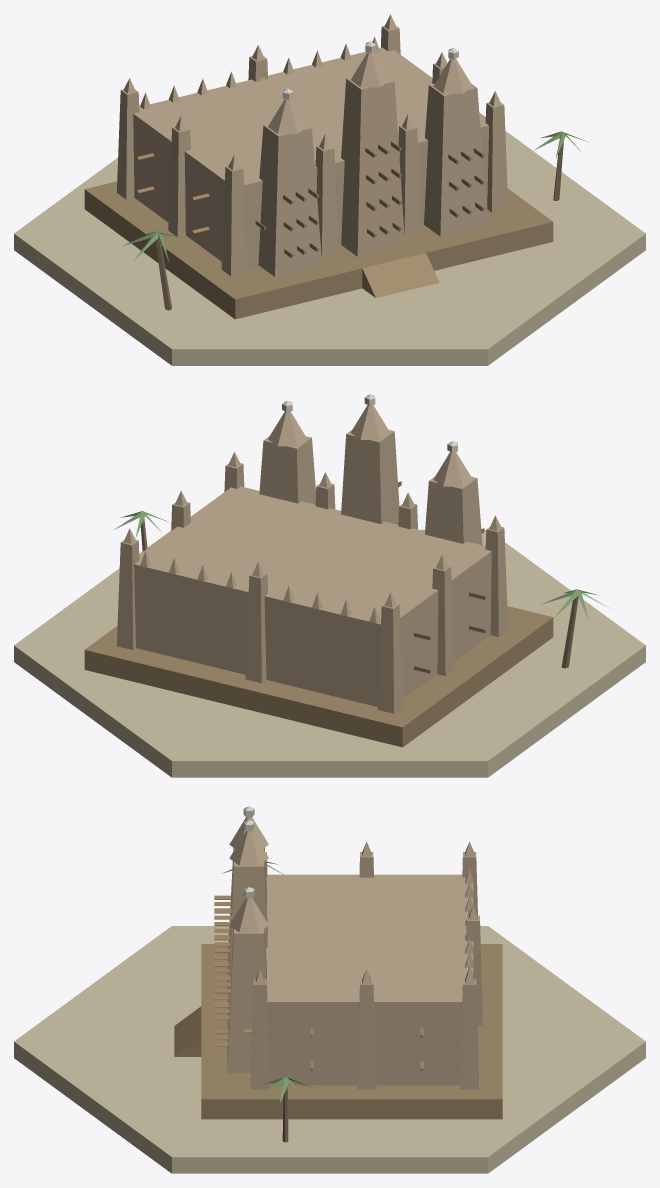
Rendered from great-mosque-of-djenne.glb.
3 renders of one model, top to bottom at view 1: azimuth 30°, elevation 25°; view 2: azimuth 150°, elevation 25°; view 3: azimuth 270°, elevation 25°, orthographic.
Parts seen in each view (by area): view 1: LOD0; view 2: LOD0; view 3: LOD0.
Part boxes in pixels (x1,y1,x2,y2): LOD0: (14,14,645,365); LOD0: (14,394,645,777); LOD0: (14,806,645,1173).
Size of what is drawn, in the model's own units: 1.5 by 0.7155 by 1.72.
